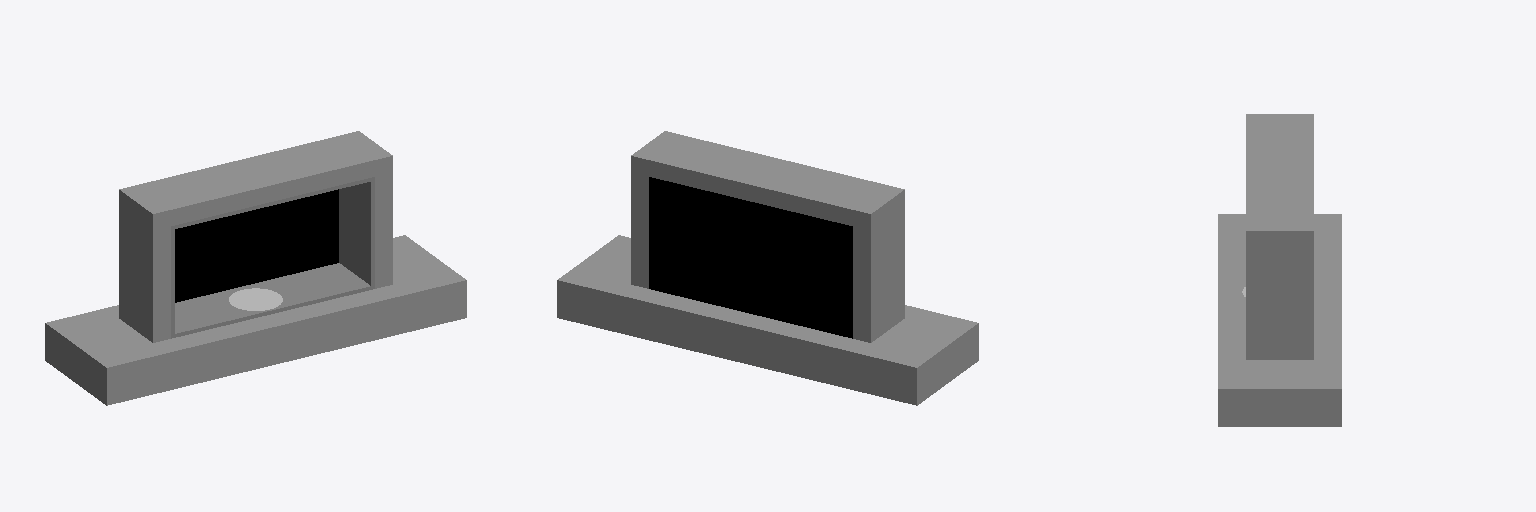
The picture shows the model from 3 angles: view 1: azimuth 30°, elevation 25°; view 2: azimuth 150°, elevation 25°; view 3: azimuth 270°, elevation 25°; orthographic projection.
Visible parts, largest first — view 1: Assem1___wooden_case_part_1, Assem1___glass_part_1, Assem1___steel_case_part_1, Circle; view 2: Assem1___wooden_case_part_1, Assem1___glass_part_1; view 3: Assem1___wooden_case_part_1.
Boxes of the visible parts, x1,y1,x2,y2 form: Assem1___wooden_case_part_1: [45, 131, 466, 405]; Assem1___glass_part_1: [175, 189, 338, 302]; Assem1___steel_case_part_1: [171, 177, 374, 338]; Circle: [229, 288, 282, 310]; Assem1___wooden_case_part_1: [557, 131, 978, 405]; Assem1___glass_part_1: [649, 177, 852, 338]; Assem1___wooden_case_part_1: [1218, 114, 1341, 426].
Bounding box in the file's own units: 5.99 × 2.65 × 1.77.
Materials: 4 (1 with a texture image).